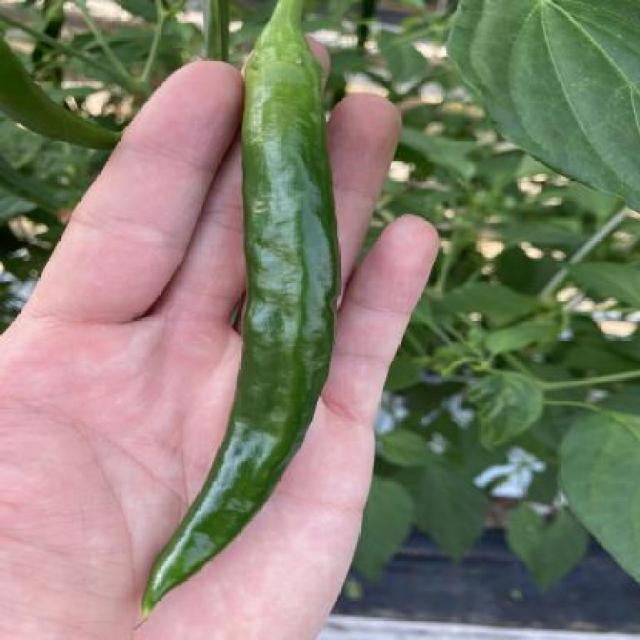green chilli: (142, 60, 342, 611)
